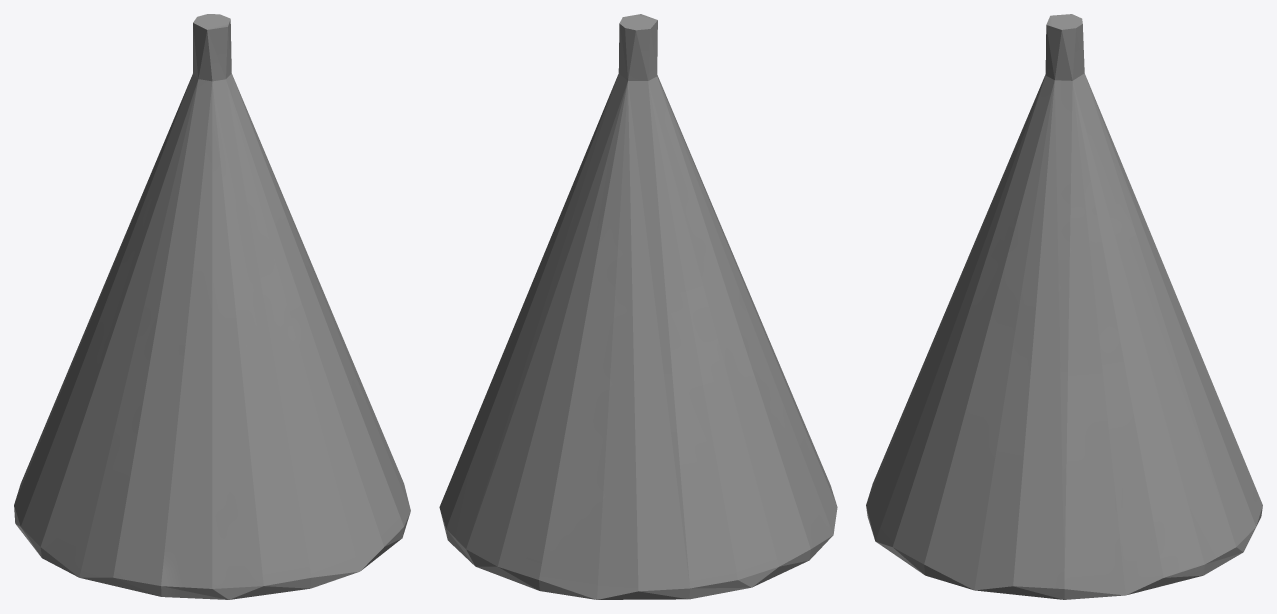
Rendered from metal1_2.dae.
The picture shows the model from 3 angles, left to right: view 1: azimuth 30°, elevation 25°; view 2: azimuth 150°, elevation 25°; view 3: azimuth 270°, elevation 25°; orthographic projection.
Parts seen in each view (by area): view 1: node; view 2: node; view 3: node.
Boxes of the visible parts, box(x1,y1,x2,y2) form: node: box(14, 14, 410, 599); node: box(439, 14, 837, 599); node: box(866, 14, 1262, 599).
Size of the model in its own units: 0.125 by 0.172 by 0.125.
Materials: 1 (1 with a texture image).
